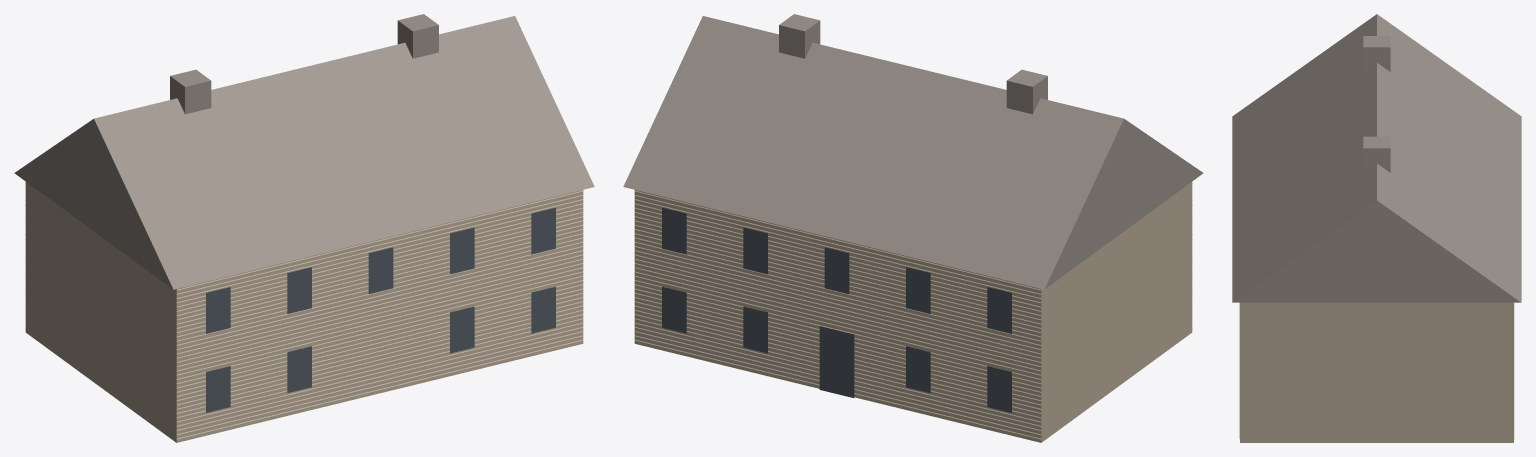
Rendered from exchange_coffee_house__frame_1834.glb.
3 renders of one model, left to right at view 1: azimuth 30°, elevation 25°; view 2: azimuth 150°, elevation 25°; view 3: azimuth 270°, elevation 25°, orthographic. The views are drawn at different scales.
Parts seen in each view (by area): view 1: exchange_coffee_house__frame_1834; view 2: exchange_coffee_house__frame_1834; view 3: exchange_coffee_house__frame_1834.
Part boxes in pixels (x1,y1,x2,y2): exchange_coffee_house__frame_1834: (14,14,594,442); exchange_coffee_house__frame_1834: (623,14,1203,442); exchange_coffee_house__frame_1834: (1232,14,1521,442).
Bounding box in the file's own units: 14.5 × 9.46 × 9.5.
